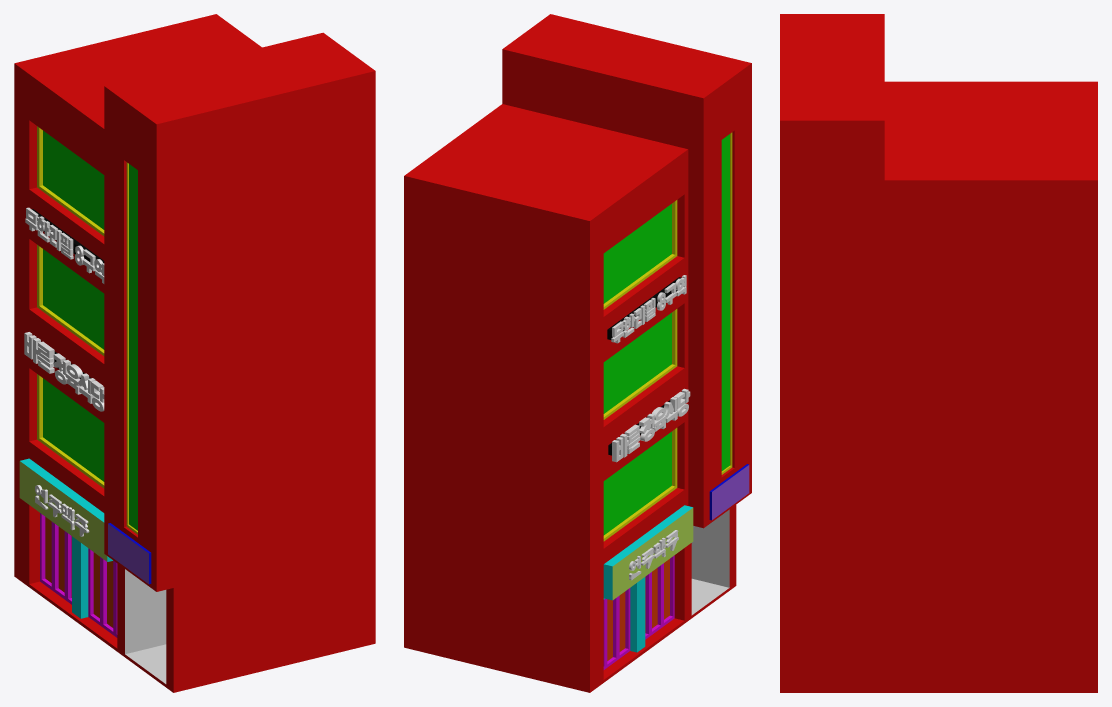
File: Building_10.fbx
3 renders of one model, left to right at view 1: azimuth 30°, elevation 25°; view 2: azimuth 150°, elevation 25°; view 3: azimuth 270°, elevation 25°, orthographic. The views are drawn at different scales.
Parts seen in each view (by area): view 1: pCube26, Signboard_1, typeMesh1, typeMesh3, Signboard_2, typeMesh4; view 2: pCube26, Signboard_1, typeMesh1, typeMesh3, Signboard_2, typeMesh4; view 3: pCube26.
Boxes of the visible parts, <box> form: pCube26: <box>14,14,375,692</box>; Signboard_1: <box>19,458,112,561</box>; typeMesh1: <box>24,332,104,411</box>; typeMesh3: <box>25,207,104,283</box>; Signboard_2: <box>108,523,151,584</box>; typeMesh4: <box>35,485,89,536</box>; pCube26: <box>404,14,751,692</box>; Signboard_1: <box>603,505,693,600</box>; typeMesh1: <box>612,388,690,462</box>; typeMesh3: <box>611,275,686,343</box>; Signboard_2: <box>709,464,749,520</box>; typeMesh4: <box>629,530,678,580</box>; pCube26: <box>780,14,1097,692</box>.
Size of the model in its own units: 258 by 638 by 321.
